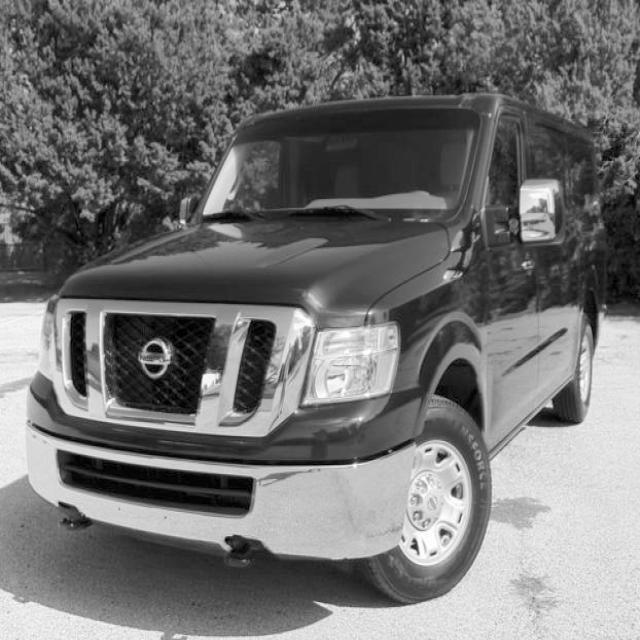car: (24, 90, 608, 604)
